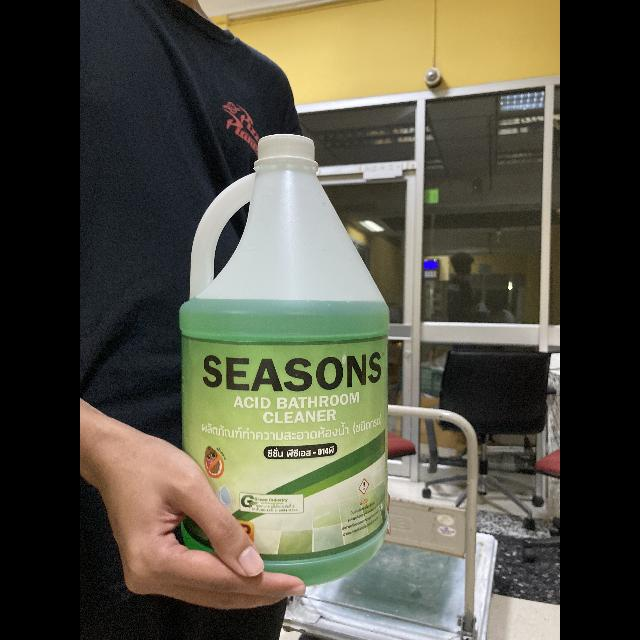chemical_plastic_gallon: (182, 129, 390, 583)
